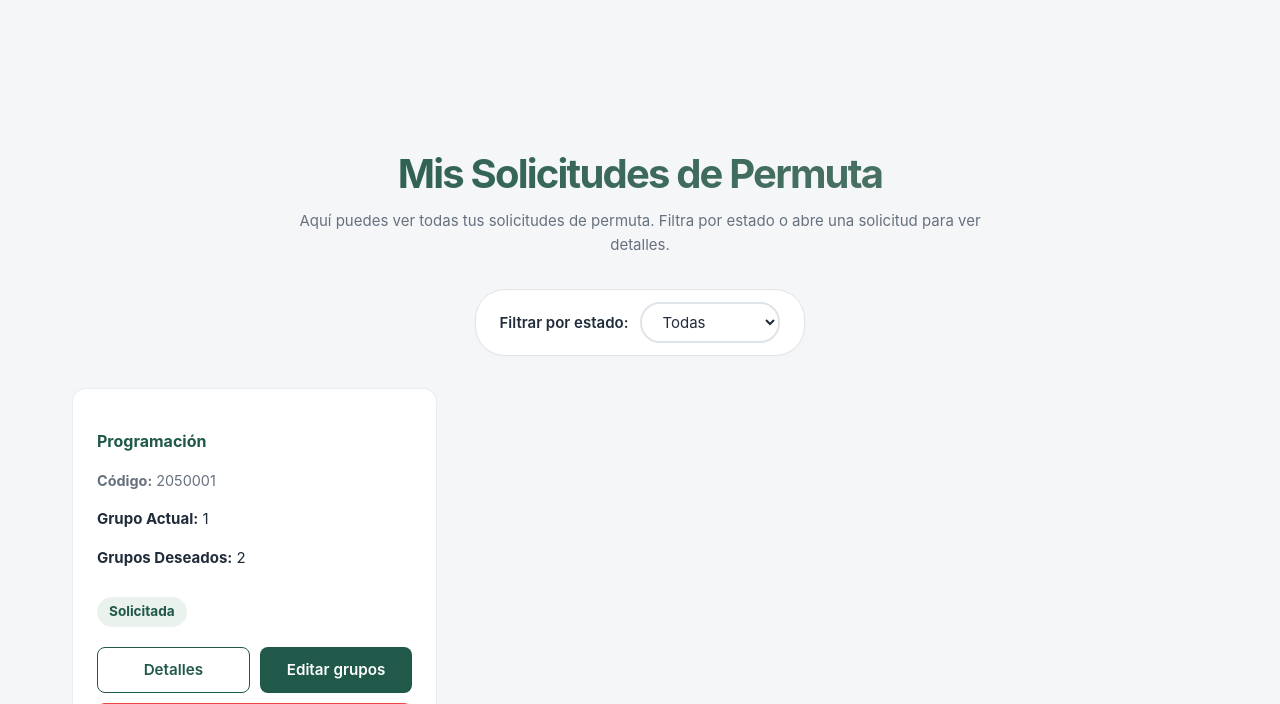
edición de grupos deseados › precarga la selección y envía el conjunto final de IDs
This screenshot has width=1280, height=704.
Step 1. Click the button "Editar grupos" → (336, 670), box [260,647,412,693]
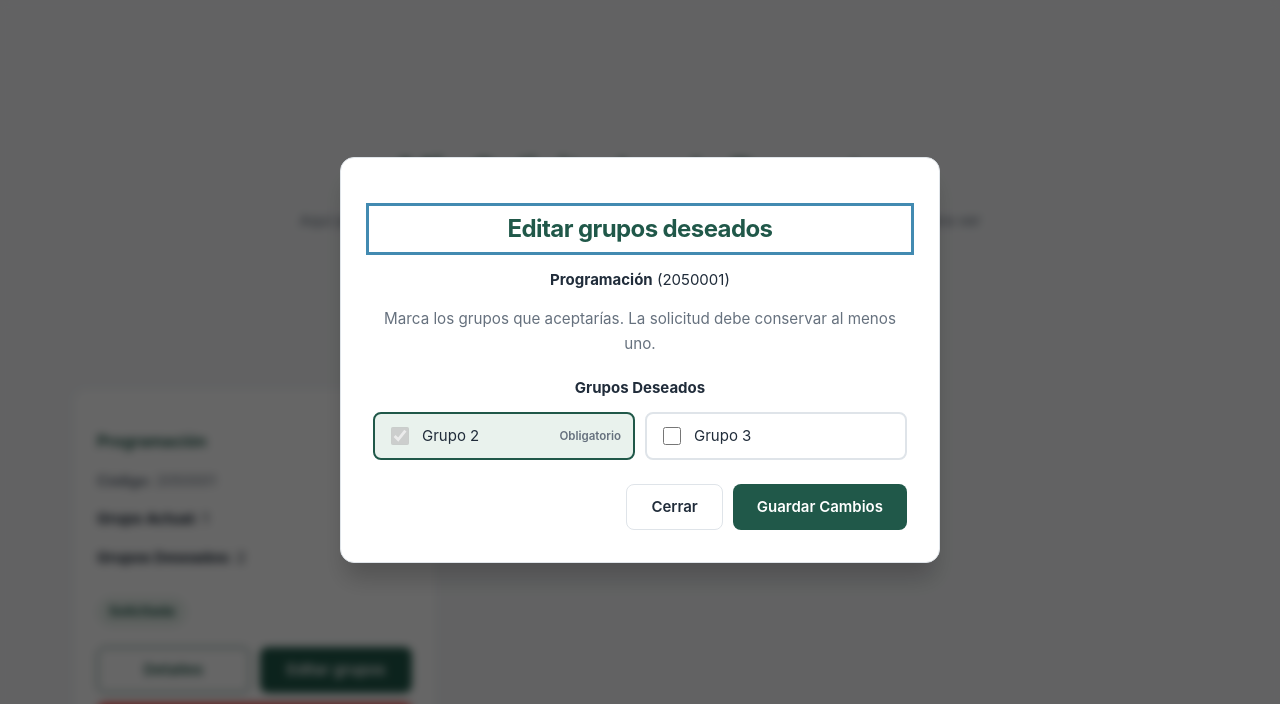
Check: the checkbox labelled "Grupo 2 Obligatorio" is checked, box [391,427,409,445]
Check: the checkbox labelled "Grupo 2 Obligatorio" is disabled, box [391,427,409,445]
Check: the checkbox labelled "Grupo 3" is not checked
Step 2. Click the checkbox labelled "Grupo 3" → (672, 436), box [663,427,681,445]
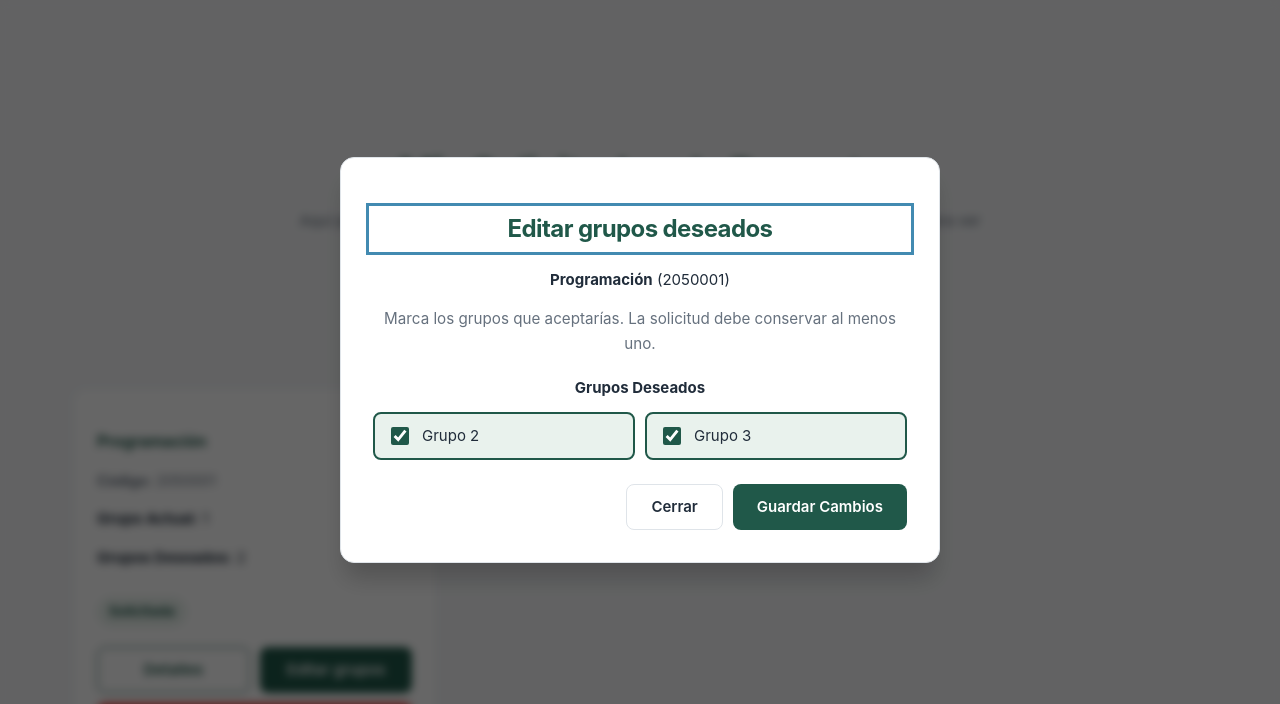
Check: the checkbox labelled "Grupo 2" is enabled
Step 3. Click the checkbox labelled "Grupo 2" → (400, 436), box [391,427,409,445]
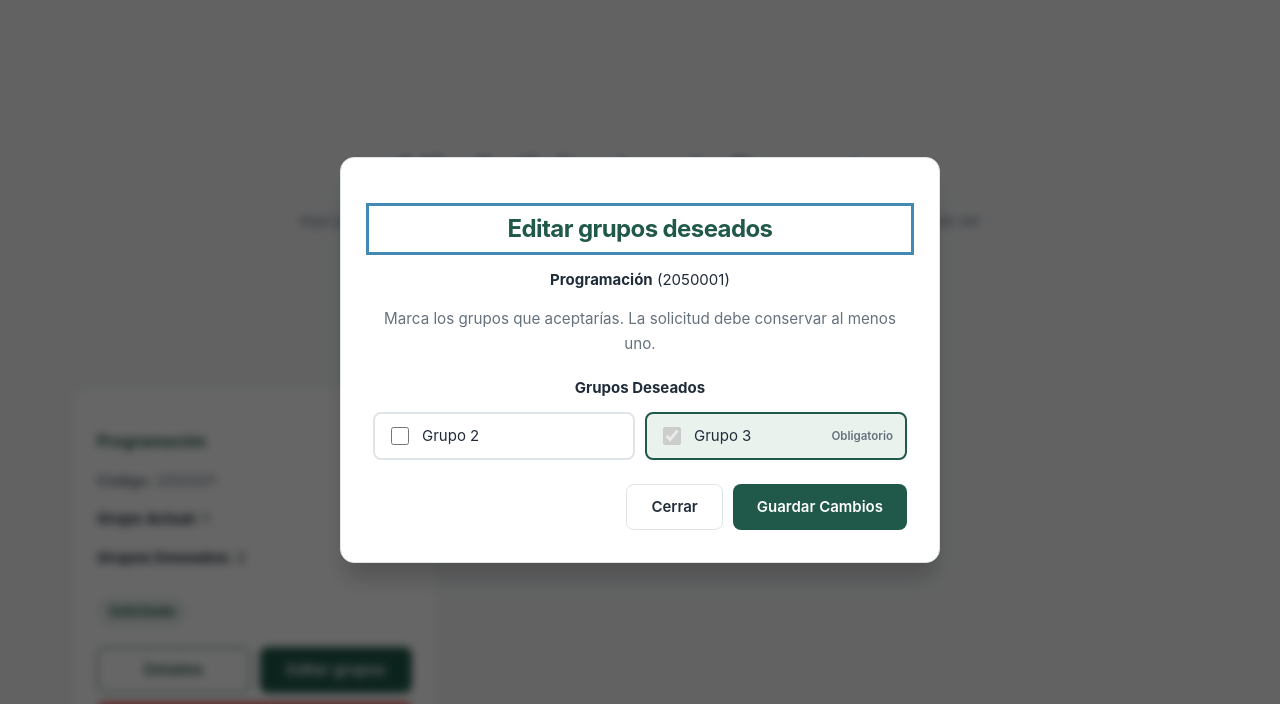
Step 4. Click the button "Guardar Cambios" → (820, 507), box [733,484,907,530]
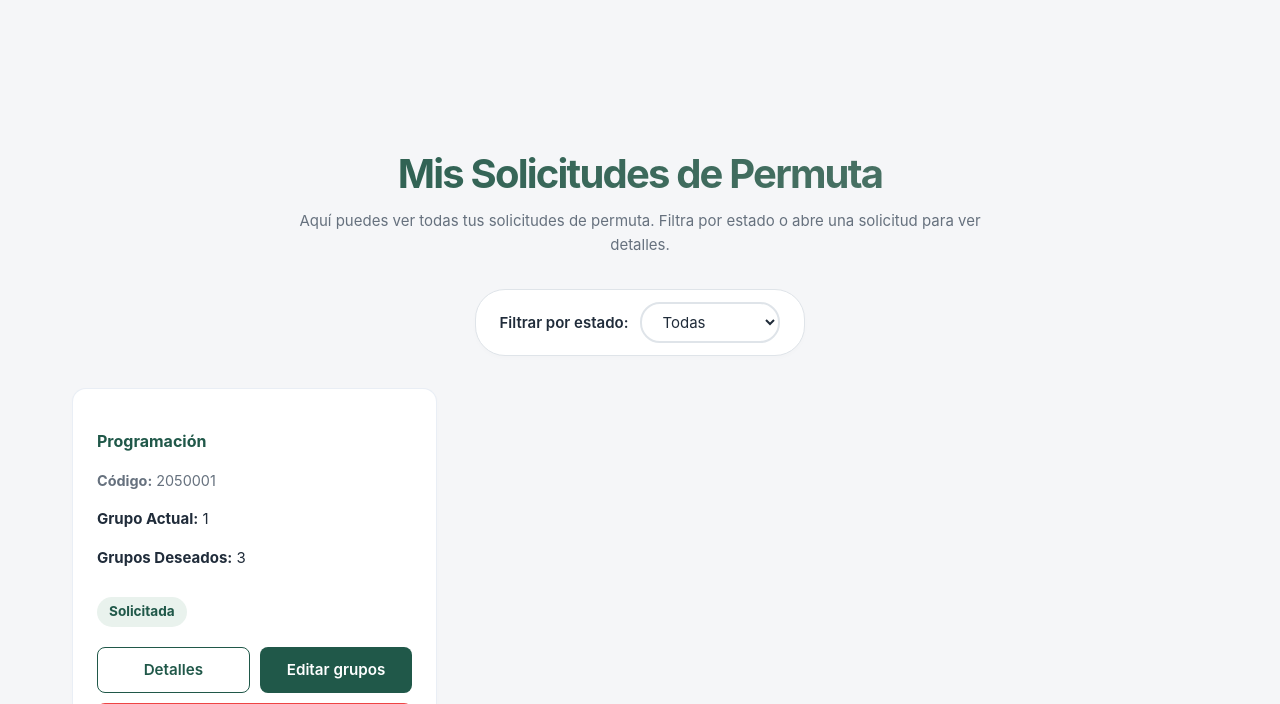
Check: the text "Grupos Deseados: 3" is shown, box [97,548,246,567]
